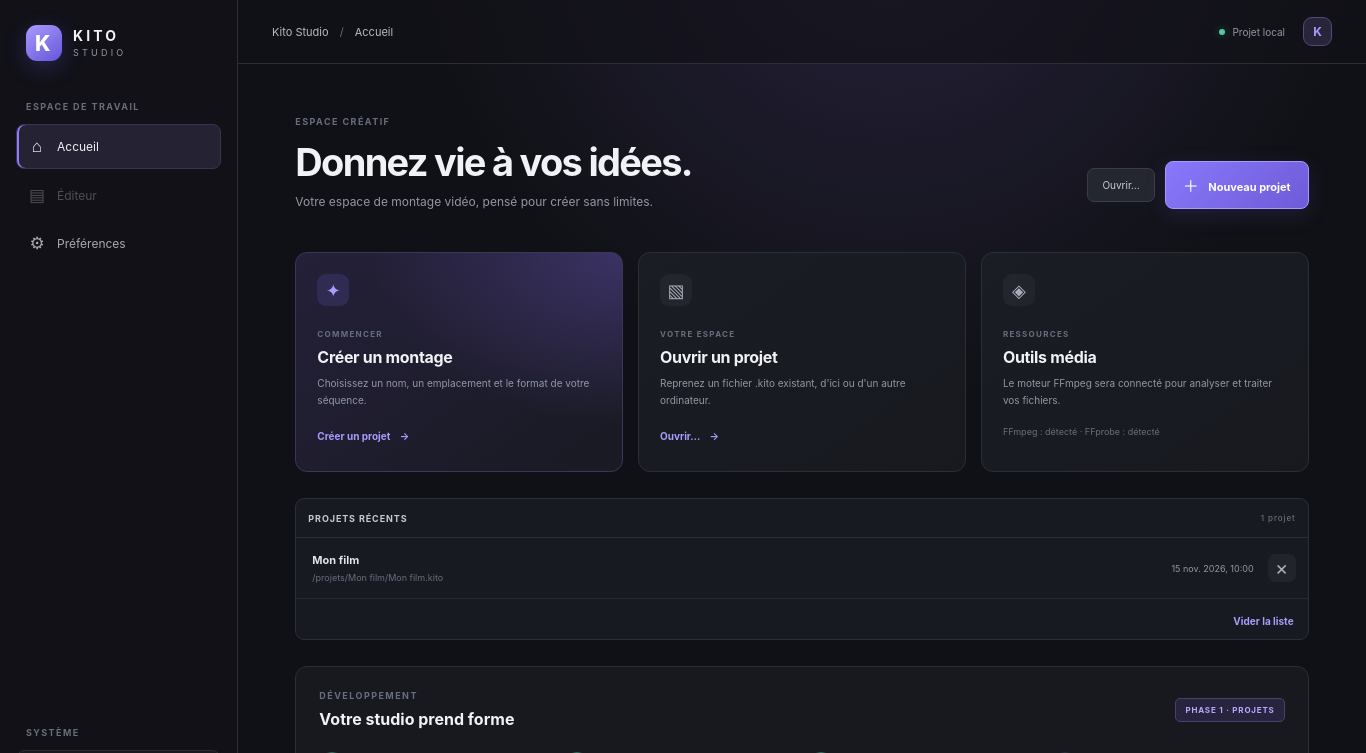
Scenario: enregistrement › enregistre avec le bouton et met à jour l'indicateur
Click the text "Mon film": x=336, y=560 [312, 553, 359, 567]
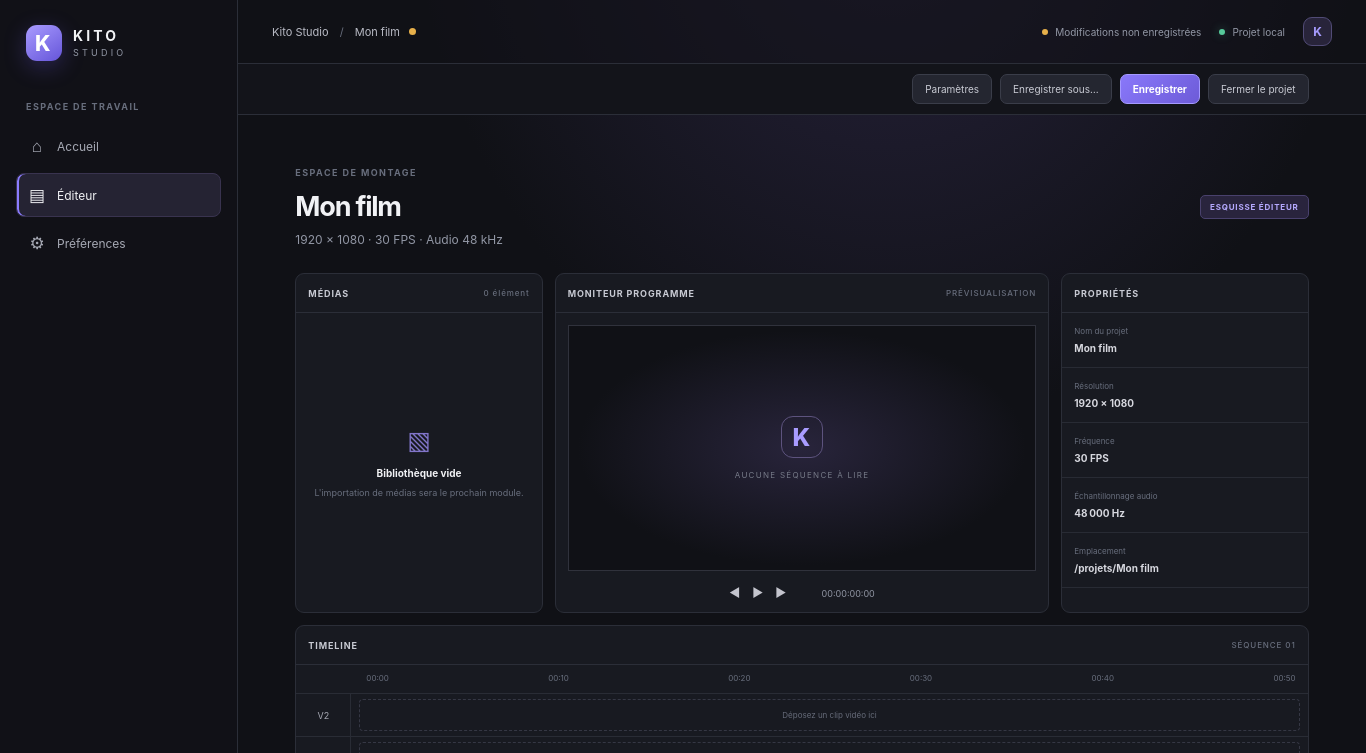
Expected: the heading "Mon film" is shown, [295, 190, 401, 223]
Expected: the text "Modifications non enregistrées" is shown, [1042, 26, 1202, 38]
Click the button "Enregistrer": x=1160, y=89 [1120, 74, 1200, 104]
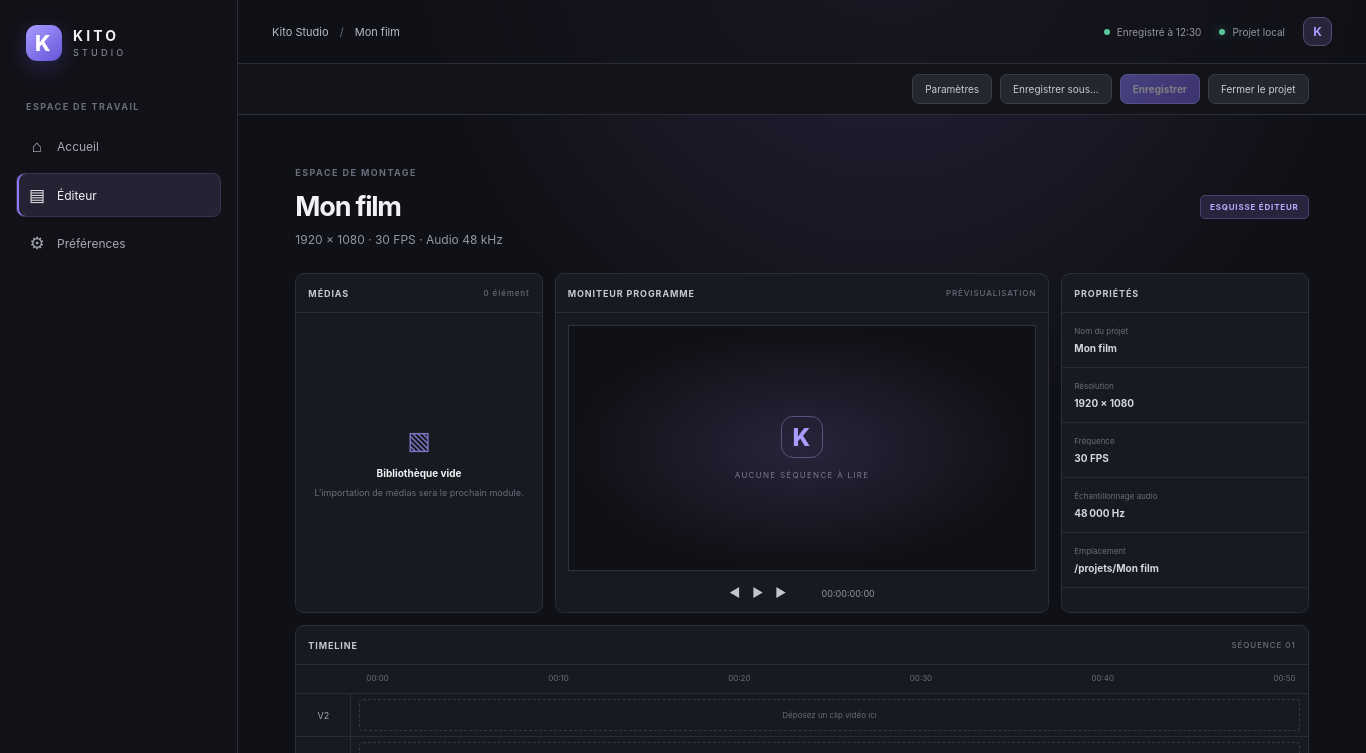
Expected: the text "Enregistré à 12:30" is shown, [1104, 26, 1202, 38]
